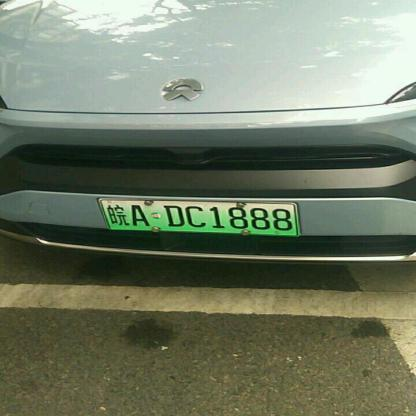lp: (100, 199, 296, 235)
